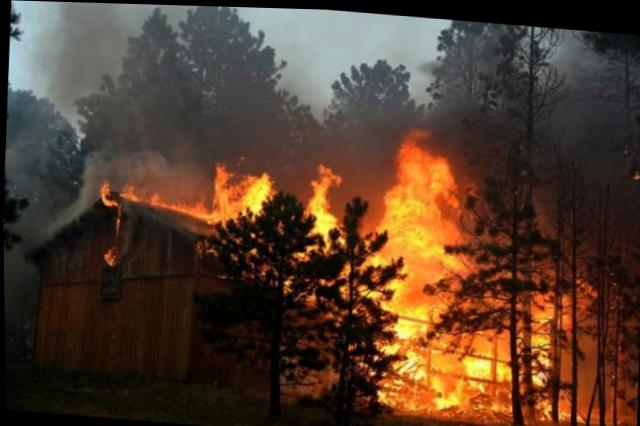fire: (70, 83, 611, 423)
